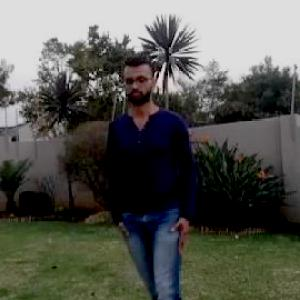follow: (124, 64, 192, 299)
